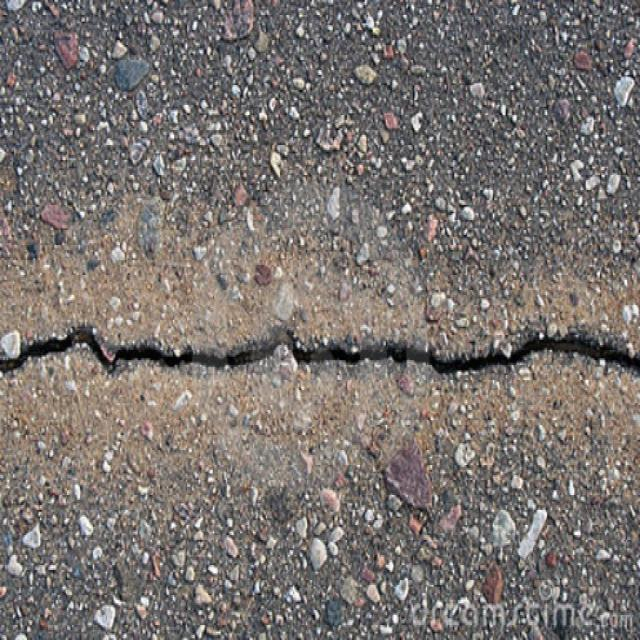Transverse: (0, 290, 640, 442)
